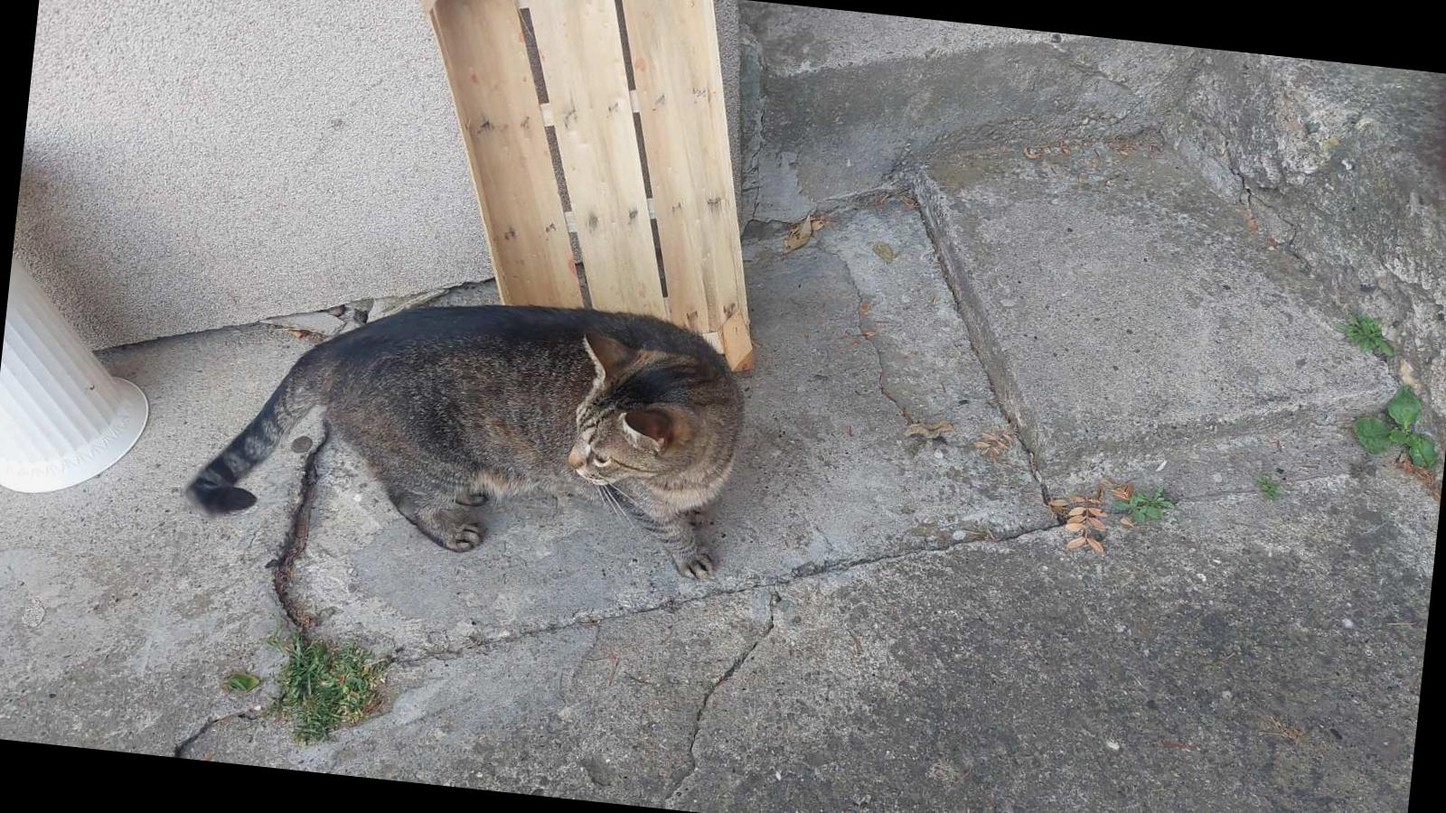macka: (187, 266, 752, 584)
